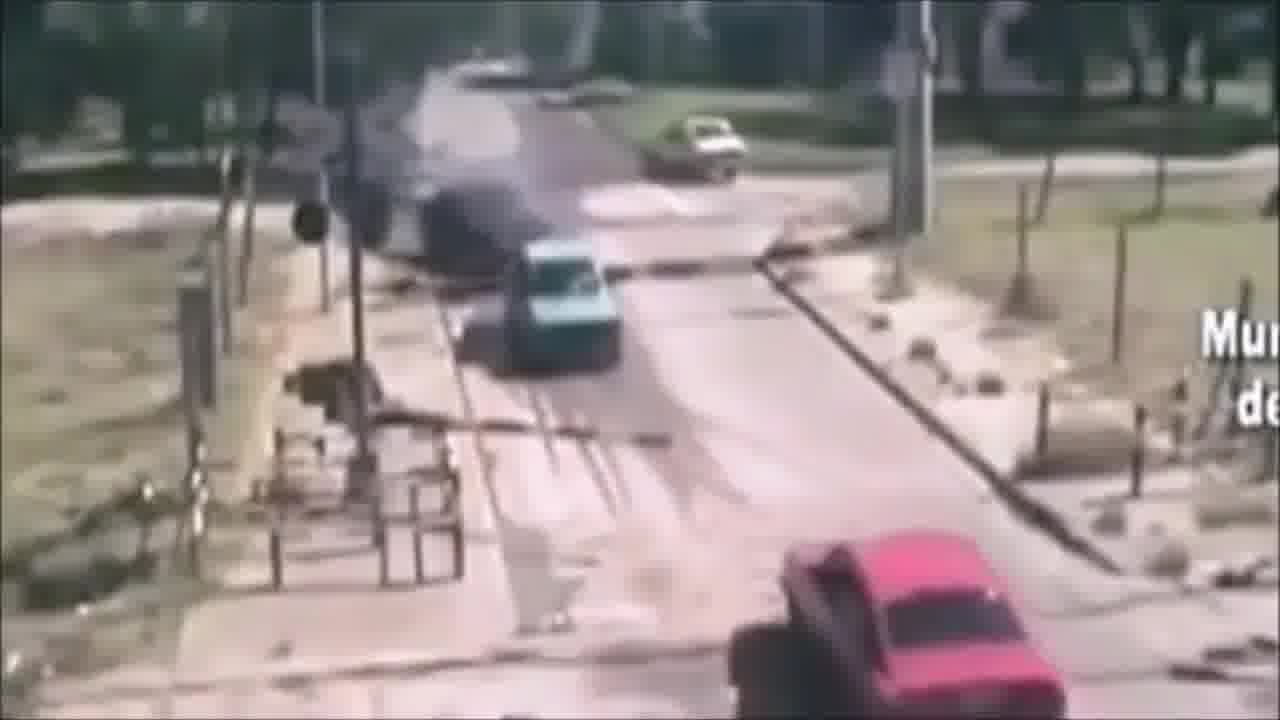crossing railway track: (733, 510, 1123, 718)
